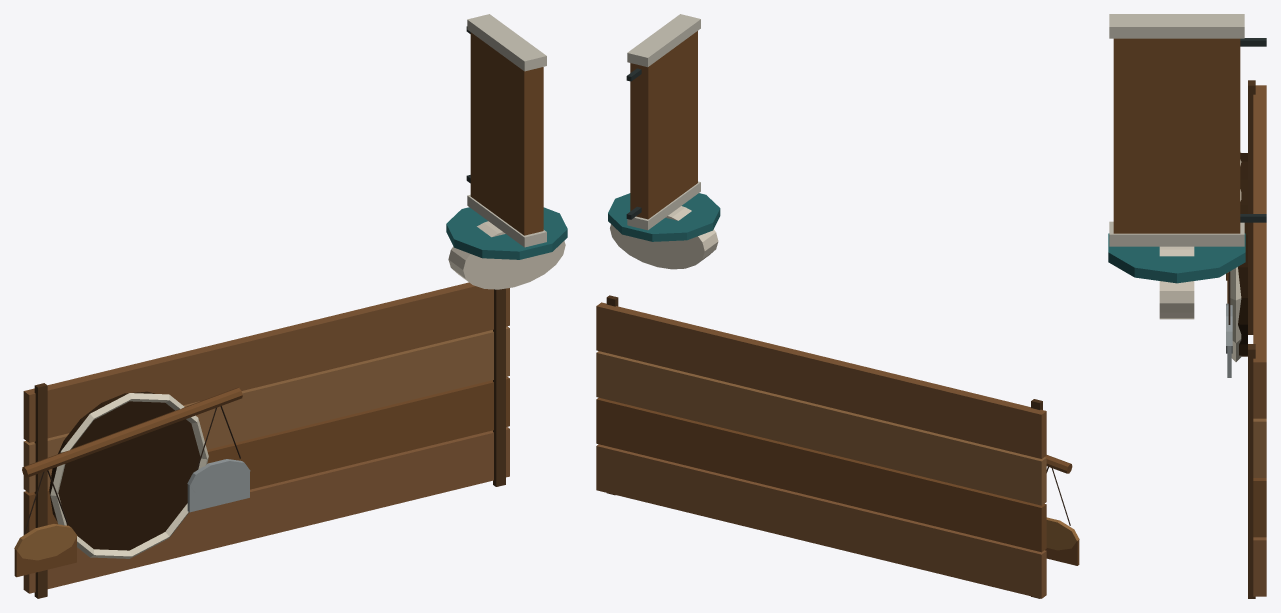
The model's file is bang_pho_ganh_chu_sau_32.glb.
3 renders of one model, left to right at view 1: azimuth 30°, elevation 25°; view 2: azimuth 150°, elevation 25°; view 3: azimuth 270°, elevation 25°, orthographic. The views are drawn at different scales.
Parts seen in each view (by area): view 1: bang_pho_ganh_chu_sau_32; view 2: bang_pho_ganh_chu_sau_32; view 3: bang_pho_ganh_chu_sau_32.
Part boxes in pixels (x1=…): bang_pho_ganh_chu_sau_32: x1=14, y1=14, x2=567, y2=598; bang_pho_ganh_chu_sau_32: x1=596, y1=14, x2=1079, y2=598; bang_pho_ganh_chu_sau_32: x1=1108, y1=14, x2=1266, y2=598.
Size of the model in its own units: 3.26 by 2.84 by 0.7238.
